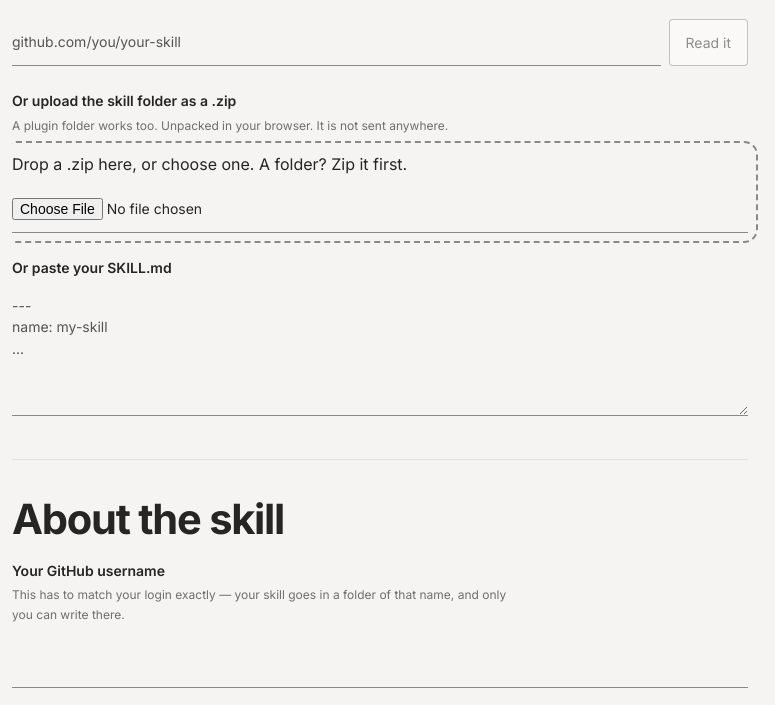
Submit — the skill survives the hand-off › shows which fields it read, so they are not asked for twice
(page scrolled)
Click the text box labelled "Or paste your SKILL.md".
click(380, 349)  # box left=12, top=282, right=748, bottom=416
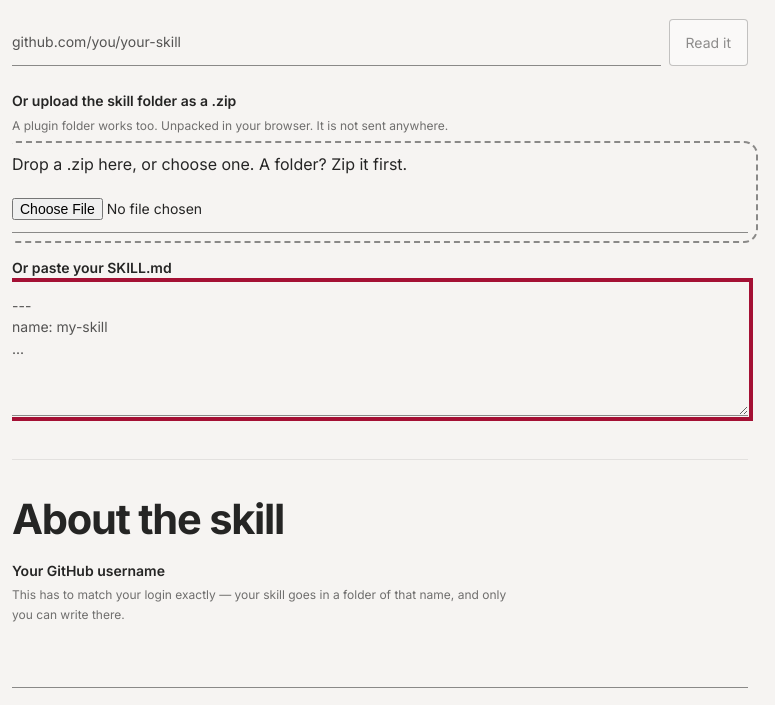
Type keys "--- name: permit-status-explainer description: Explains why a building permit is stuck, in plain language. --- Body. "
(page scrolled)
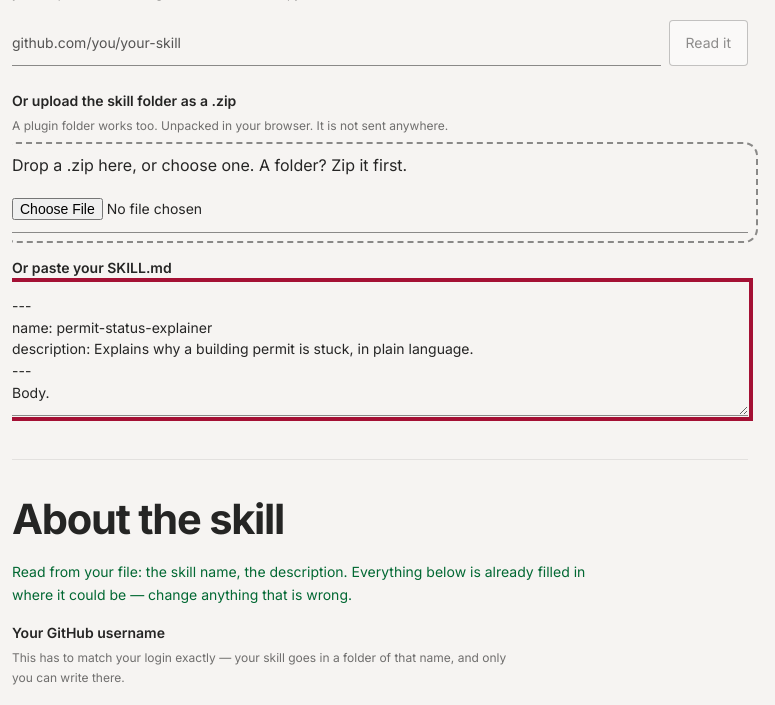
expect the text with test id "from-file" shows "description": met, box left=12, top=563, right=585, bottom=603
